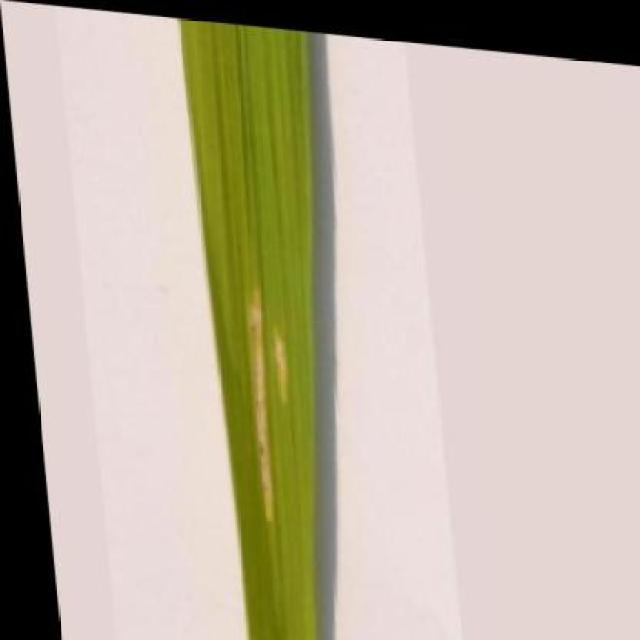Brown_Spot: (172, 14, 360, 640)
